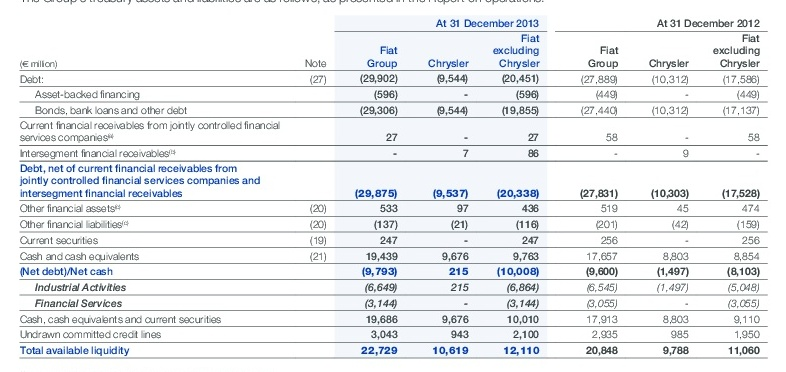table: (0, 0, 786, 372)
